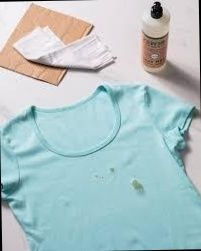oil: (129, 176, 145, 193), (106, 163, 117, 172), (93, 175, 106, 181)
